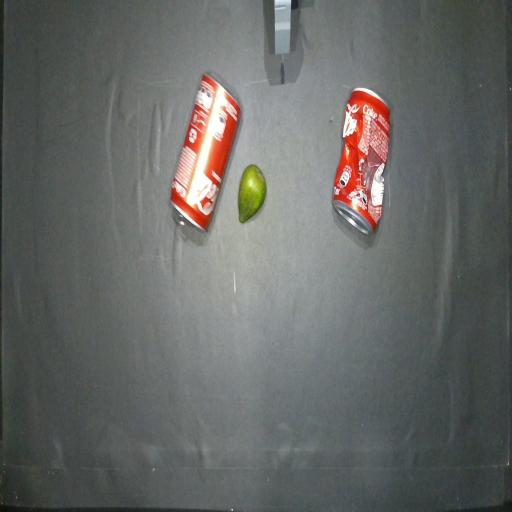higo: (238, 165, 266, 223)
lata: (170, 73, 241, 231)
lata_defectuoso: (332, 88, 390, 234)
